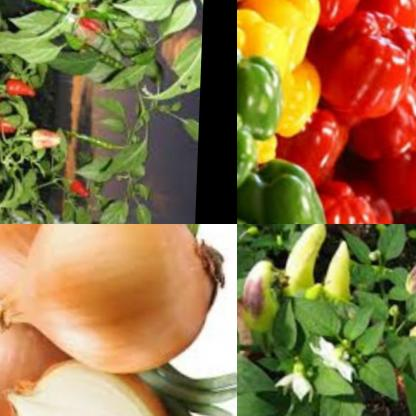bell pepper: (237, 0, 416, 224)
hot pepper: (283, 224, 338, 299), (242, 249, 285, 332), (324, 232, 357, 304), (71, 3, 122, 46), (26, 120, 68, 157), (0, 0, 78, 14), (402, 224, 416, 293), (300, 267, 327, 300), (8, 74, 42, 99), (69, 171, 97, 201), (0, 111, 23, 134), (0, 84, 11, 107)
onion: (0, 224, 231, 386), (0, 347, 180, 416), (0, 224, 135, 315), (0, 297, 45, 416)
